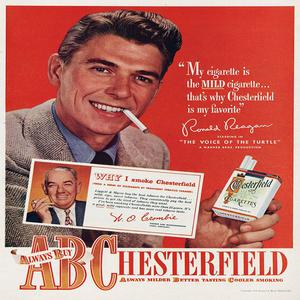cigarette: (123, 105, 152, 138)
